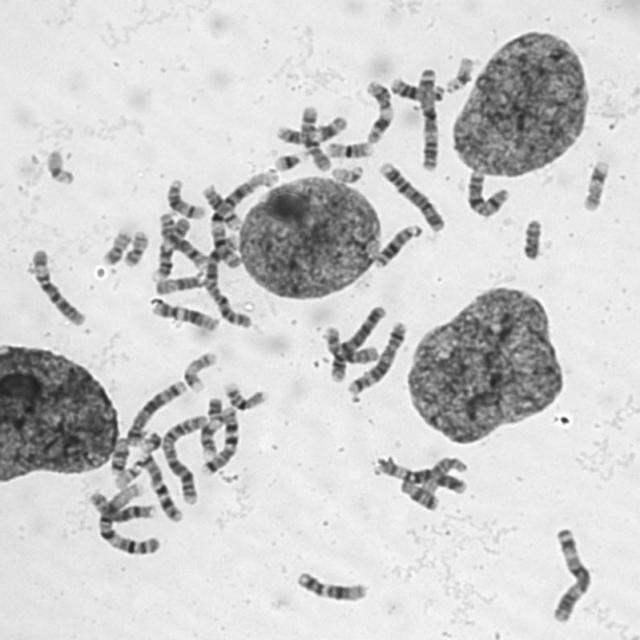A1: (204, 165, 280, 273), (90, 480, 162, 558)
A2: (201, 228, 255, 330), (160, 410, 212, 506)
A3: (546, 522, 596, 624), (414, 62, 443, 172)
B4: (376, 156, 447, 234), (326, 301, 388, 383)
B5: (343, 317, 409, 397), (122, 375, 189, 447)
C10: (318, 321, 381, 365), (296, 102, 334, 172)
C11: (272, 112, 348, 146), (361, 76, 396, 144)
C12: (291, 566, 371, 604), (146, 295, 222, 333)
C6: (27, 244, 88, 328), (373, 452, 468, 496)
C7: (134, 448, 185, 522), (198, 402, 242, 477)
C8: (155, 209, 209, 268), (85, 486, 158, 523)
C9: (148, 214, 192, 282), (199, 393, 225, 461)
D13: (372, 219, 424, 269), (387, 73, 446, 103)
D14: (198, 180, 244, 231), (162, 174, 208, 220)
D15: (418, 454, 470, 496), (152, 269, 208, 296)
E16: (220, 377, 270, 412), (322, 136, 376, 160)
E17: (579, 156, 612, 213), (180, 348, 220, 392)
E18: (396, 476, 442, 512), (106, 434, 132, 475)
F19: (42, 144, 78, 187), (441, 51, 476, 94)
F20: (98, 225, 134, 266), (120, 226, 150, 268)
G21: (271, 147, 306, 172), (136, 427, 164, 454)
G22: (111, 457, 145, 490), (328, 160, 366, 184)
X: (462, 165, 512, 219)
Y: (519, 214, 545, 261)
